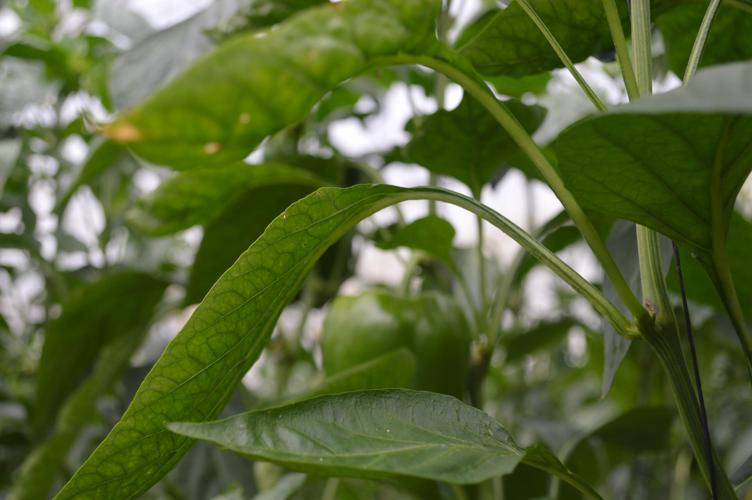BellPepper: (323, 286, 476, 409)
